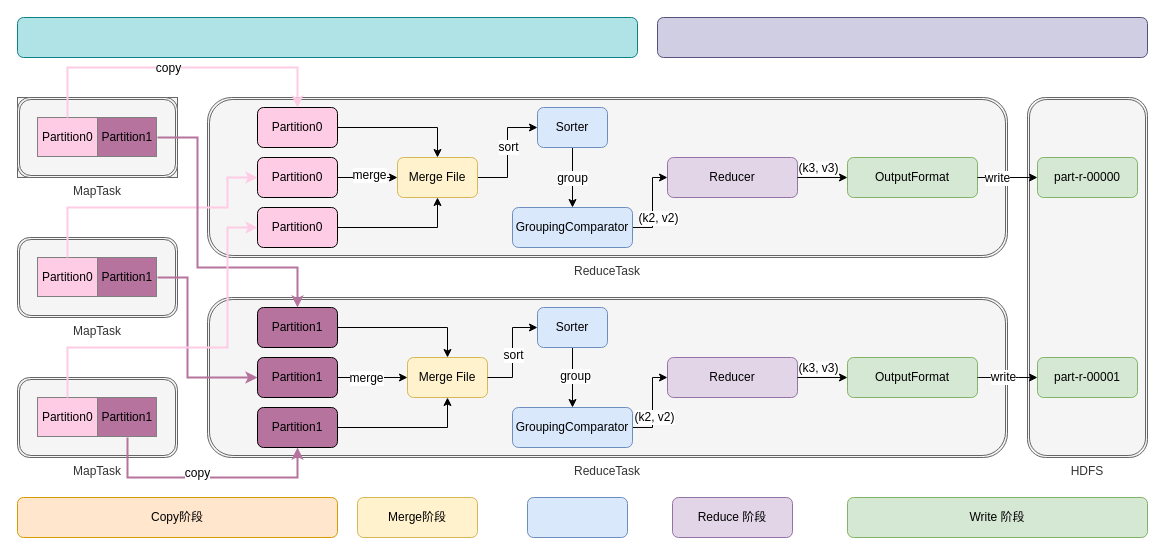
Some shapes in this 1165 by 555 pixel diagram are drawn without their labels. Here are the shapes that lost their labels. From the top down, the centre of each, then its label:
the point at 327,37: Shuffle阶段
the point at 902,37: Reduce阶段
the point at 577,517: Sort阶段
